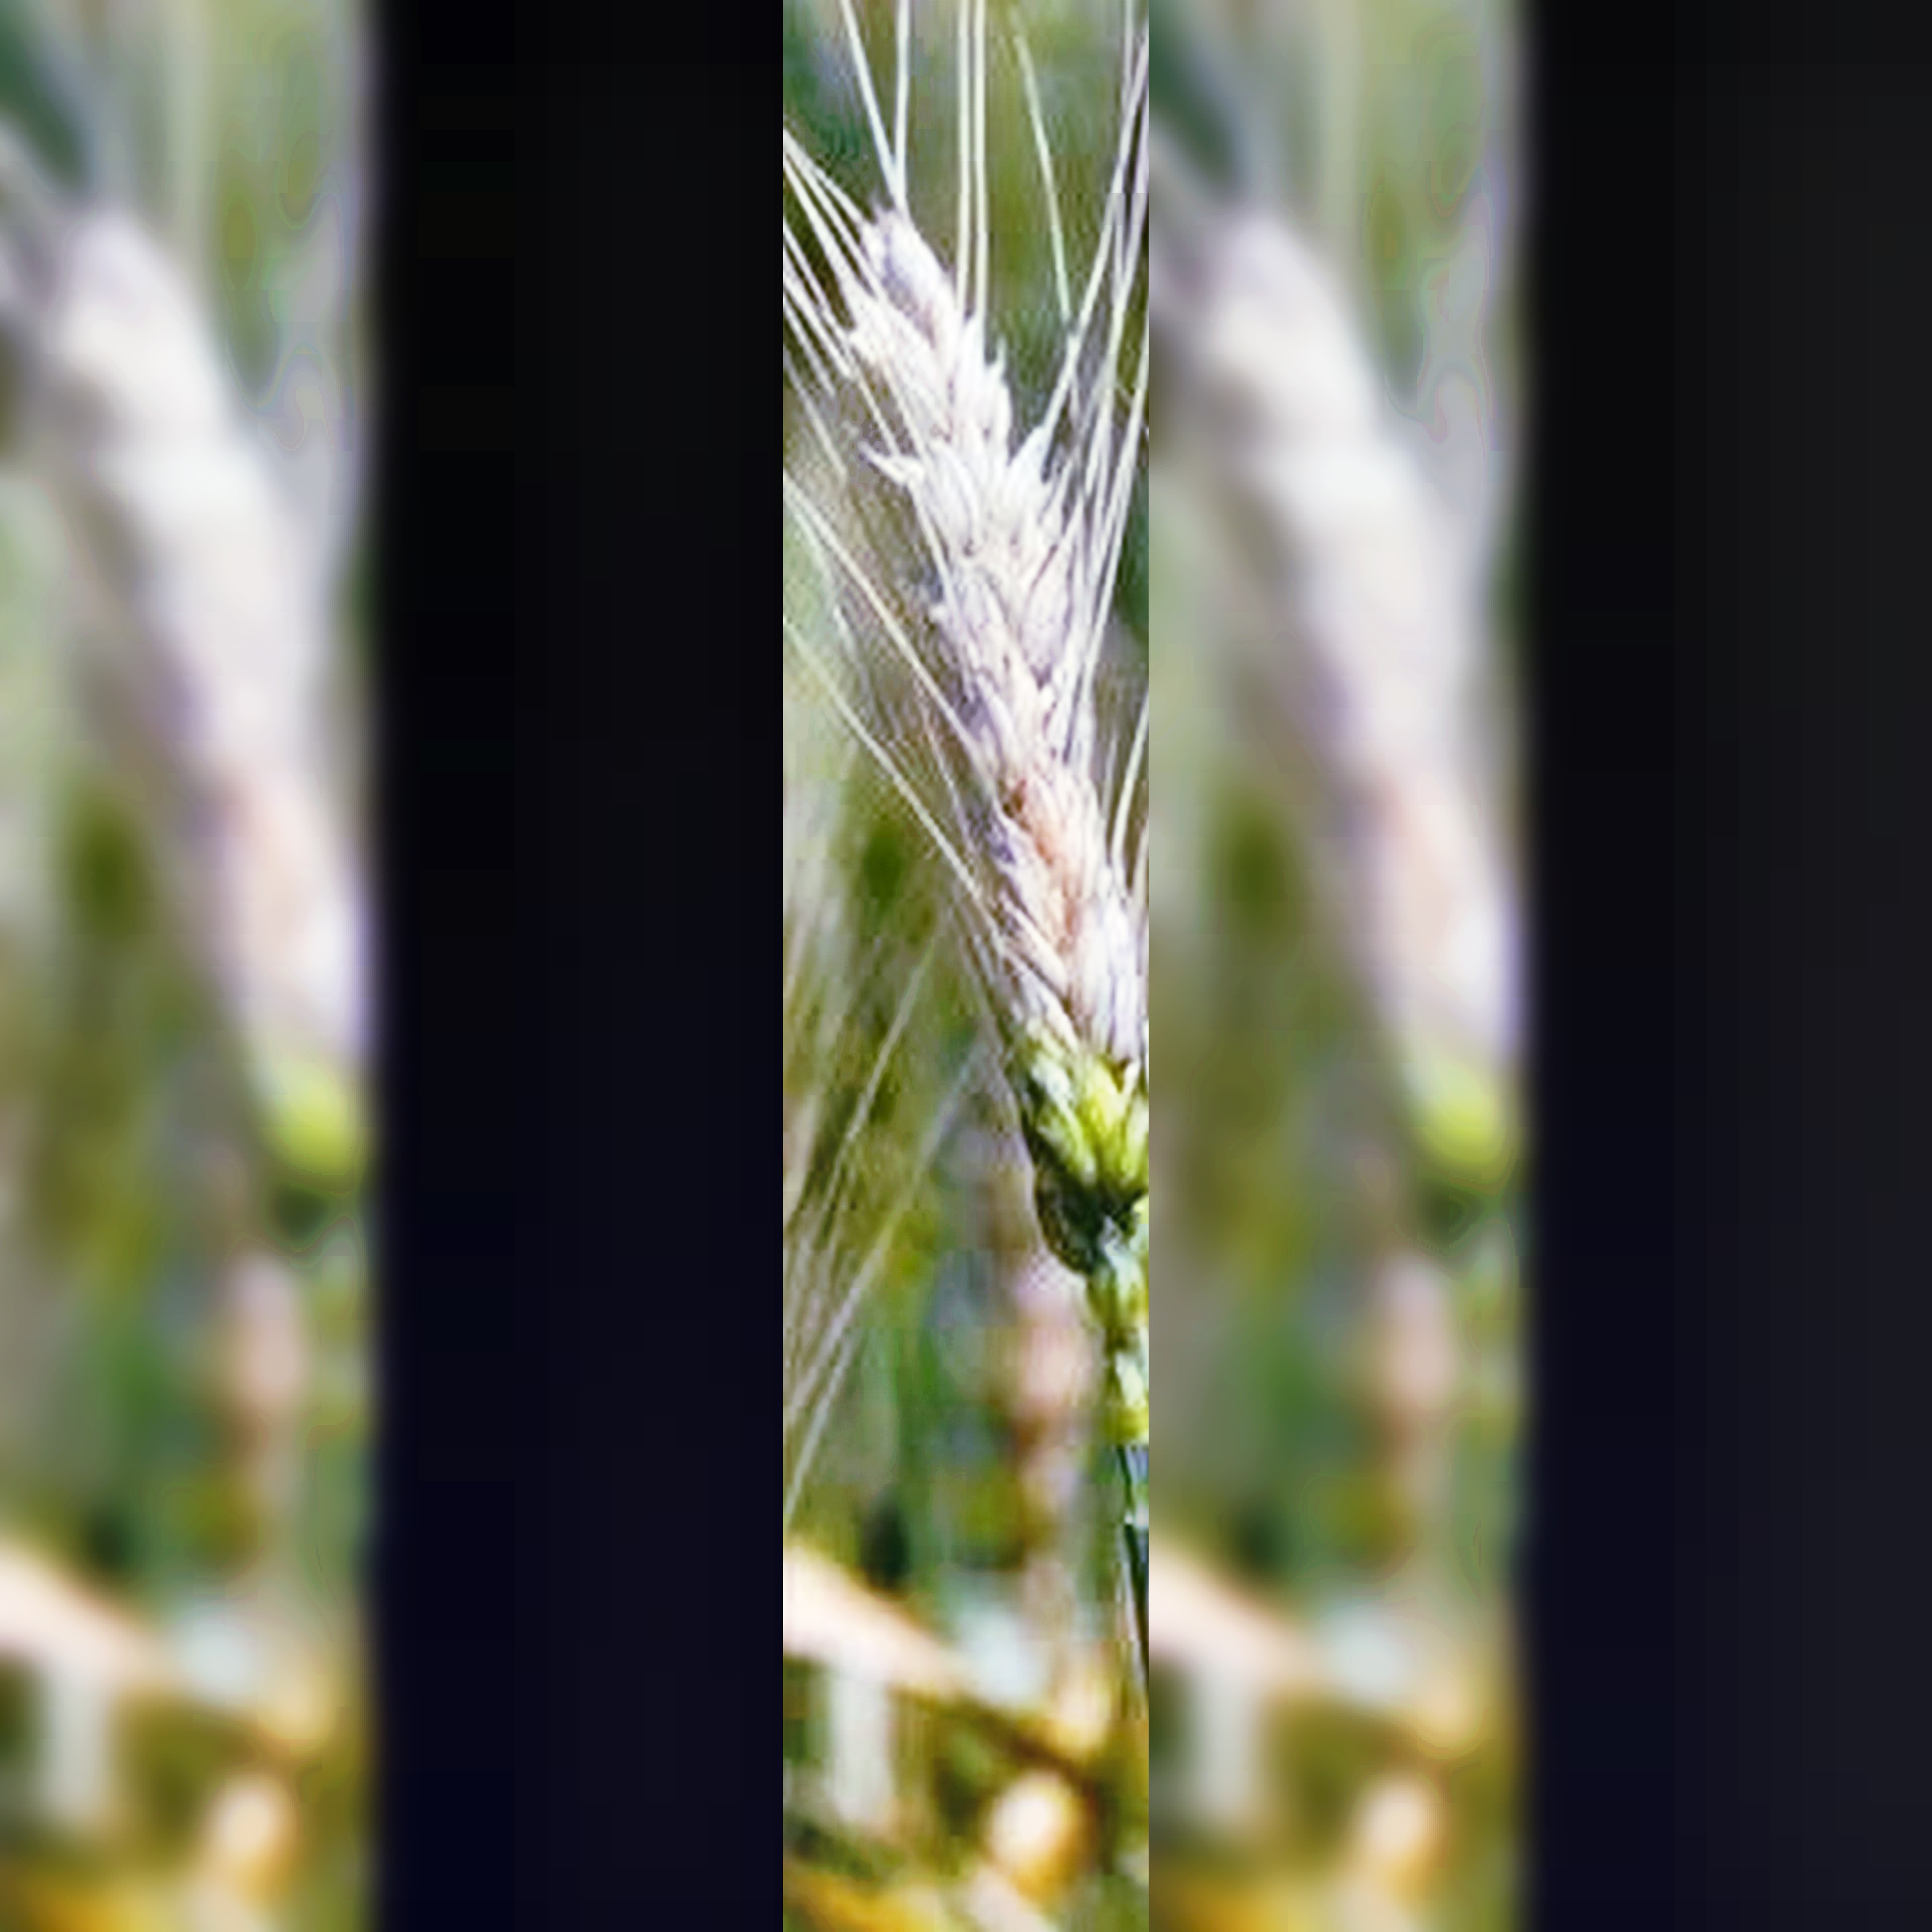Wheat scab: (800, 142, 1175, 1242)
